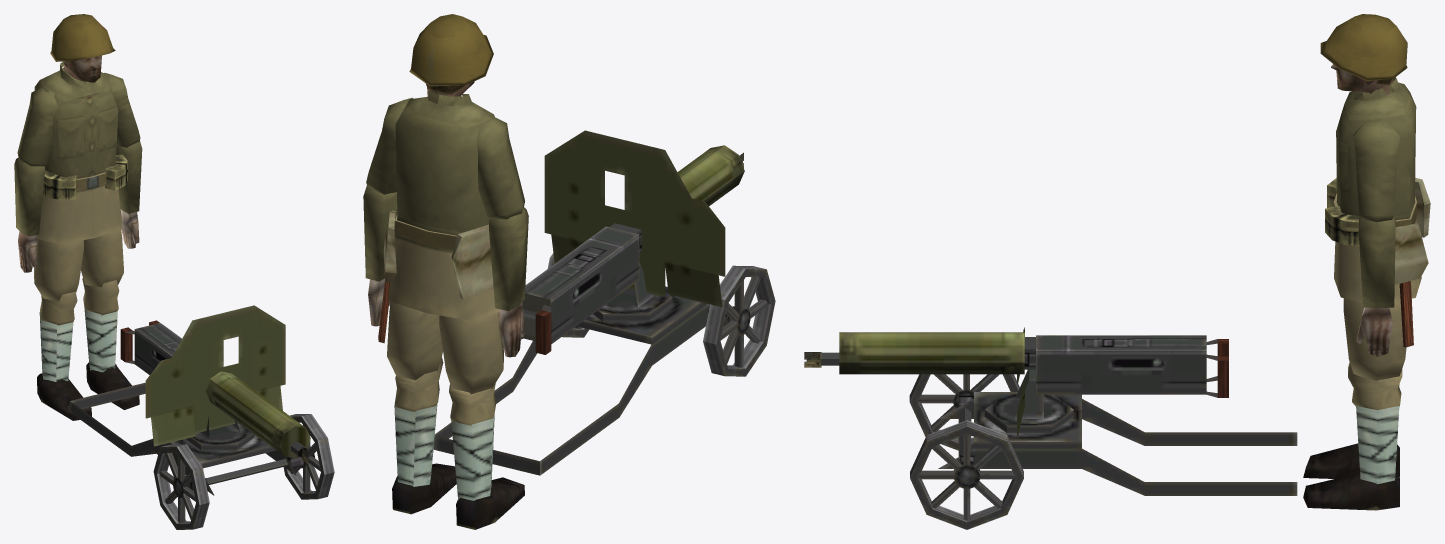
Rendered from esrmaxim.dae.
3 views of the same model, side by side, from view 1: azimuth 30°, elevation 25°; view 2: azimuth 150°, elevation 25°; view 3: azimuth 270°, elevation 25° (orthographic). The views are drawn at different scales.
Parts seen in each view (by area): view 1: gun, torso, wheels, carriage, head, lleg, rleg, rloarm, rthigh, ruparm, lthigh, lloarm (+4 smaller); view 2: gun, torso, carriage, wheels, head, lleg, rleg, rloarm, rthigh, ruparm, lthigh, lloarm (+4 smaller); view 3: gun, torso, carriage, wheels, head, lleg, lloarm, luparm, turret, lthigh, lfoot, rfoot.
Part boxes in pixels (x1=…): gun: x1=120, y1=305, x2=310, y2=458; torso: x1=34, y1=62, x2=127, y2=243; wheels: x1=153, y1=414, x2=334, y2=529; carriage: x1=69, y1=382, x2=303, y2=495; head: x1=50, y1=14, x2=115, y2=82; lleg: x1=82, y1=278, x2=119, y2=372; rleg: x1=39, y1=291, x2=77, y2=381; rloarm: x1=14, y1=157, x2=45, y2=272; rthigh: x1=34, y1=239, x2=83, y2=301; ruparm: x1=17, y1=87, x2=57, y2=166; lthigh: x1=81, y1=229, x2=123, y2=287; lloarm: x1=116, y1=140, x2=142, y2=248; gun: x1=521, y1=130, x2=744, y2=354; torso: x1=378, y1=90, x2=499, y2=343; carriage: x1=433, y1=286, x2=727, y2=475; wheels: x1=547, y1=253, x2=775, y2=376; head: x1=409, y1=14, x2=493, y2=97; lleg: x1=394, y1=357, x2=443, y2=486; rleg: x1=449, y1=383, x2=496, y2=500; rloarm: x1=489, y1=207, x2=528, y2=357; rthigh: x1=439, y1=312, x2=503, y2=394; ruparm: x1=477, y1=115, x2=524, y2=219; lthigh: x1=387, y1=302, x2=442, y2=380; lloarm: x1=363, y1=186, x2=397, y2=326; gun: x1=820, y1=327, x2=1228, y2=437; torso: x1=1325, y1=77, x2=1430, y2=347; carriage: x1=938, y1=392, x2=1297, y2=495; wheels: x1=909, y1=374, x2=1023, y2=529; head: x1=1320, y1=14, x2=1407, y2=94; lleg: x1=1348, y1=362, x2=1402, y2=484; lloarm: x1=1356, y1=216, x2=1395, y2=356; luparm: x1=1353, y1=121, x2=1399, y2=222; turret: x1=984, y1=369, x2=1073, y2=433; lthigh: x1=1343, y1=298, x2=1406, y2=380; lfoot: x1=1303, y1=473, x2=1399, y2=510; rfoot: x1=1303, y1=443, x2=1399, y2=478.
Bounding box in the file's own units: 5.6 × 17.15 × 14.2.
1 material, 1 textured.
